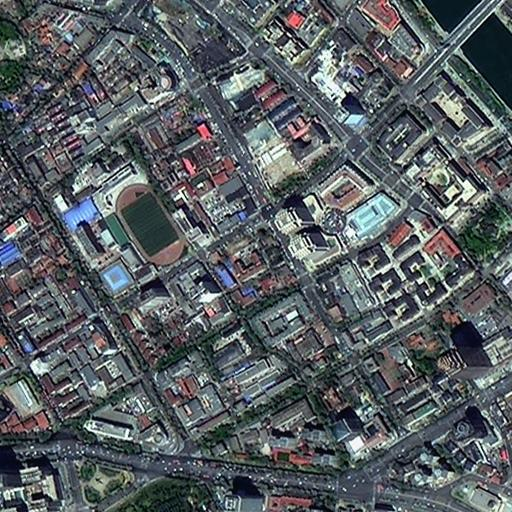school: (93, 160, 190, 281), (360, 339, 432, 411), (265, 445, 314, 469)
